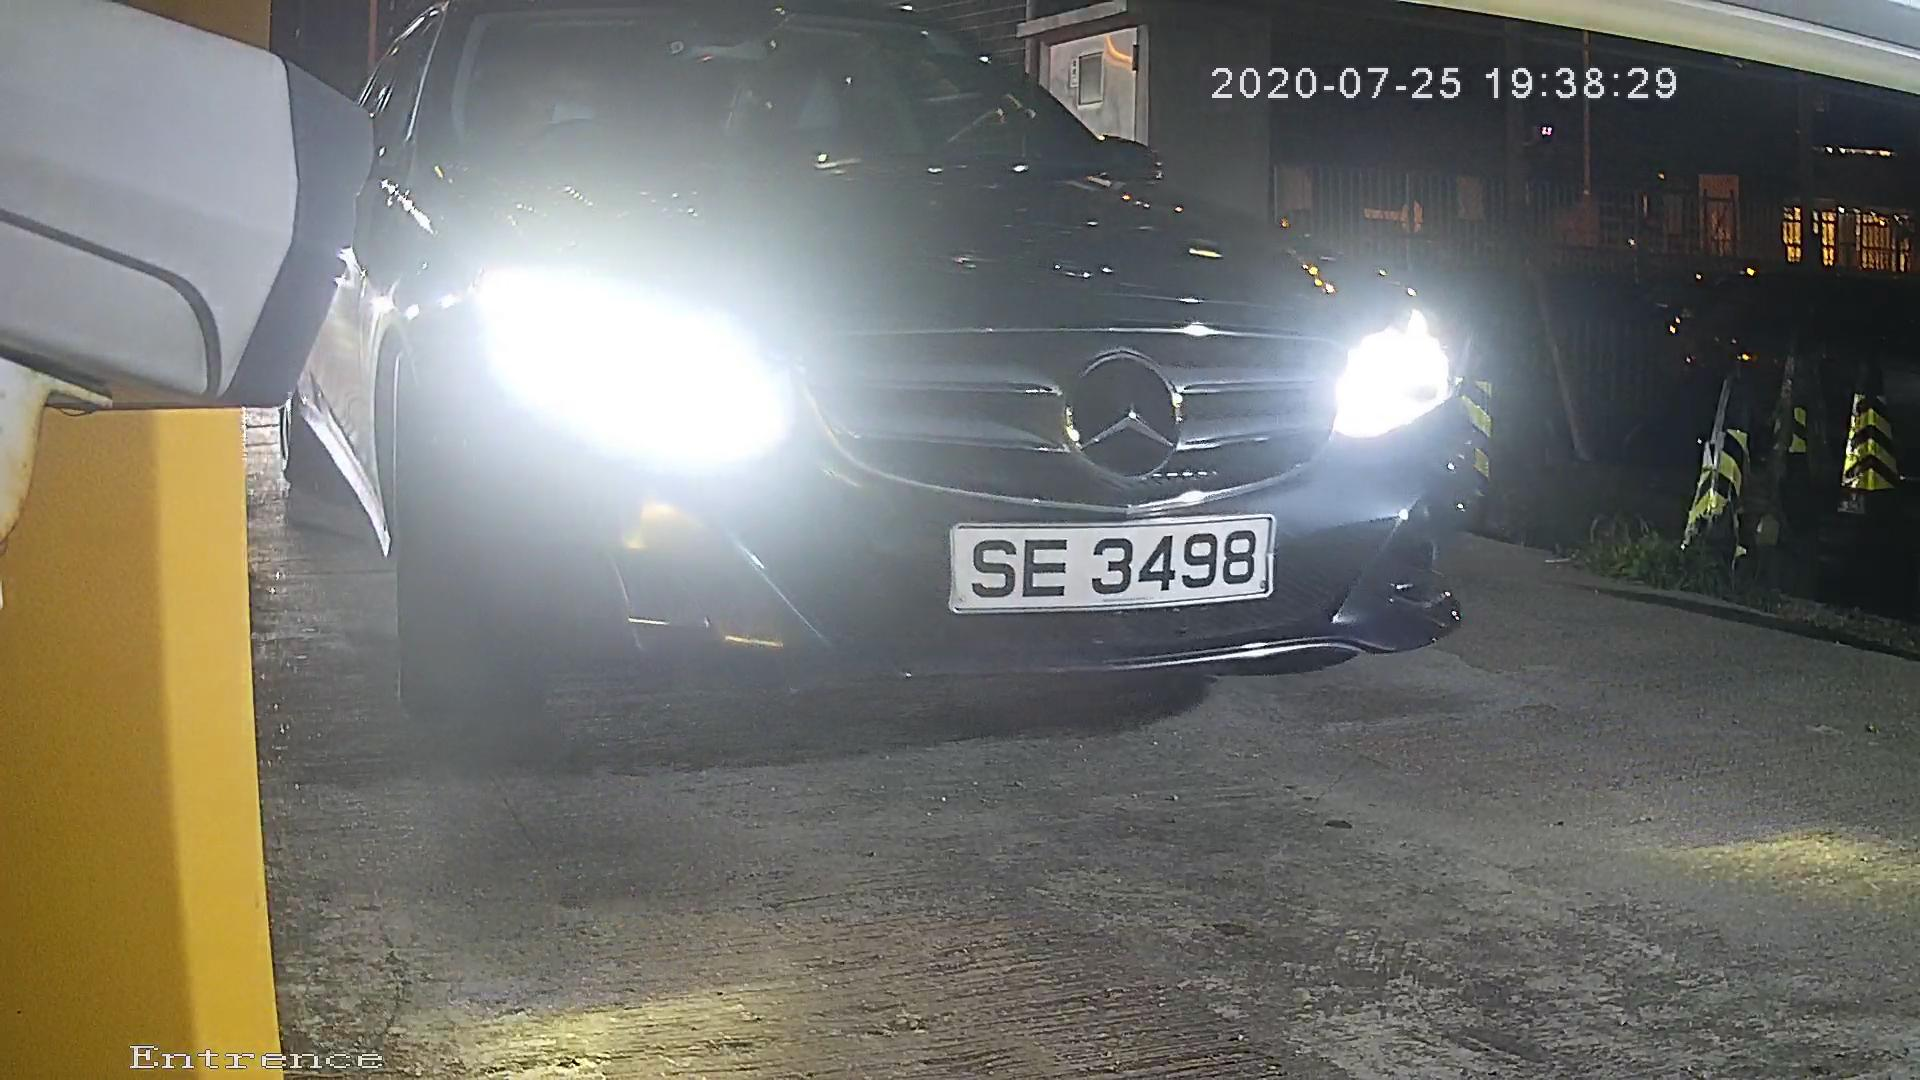License Plate: (926, 507, 1295, 618)
